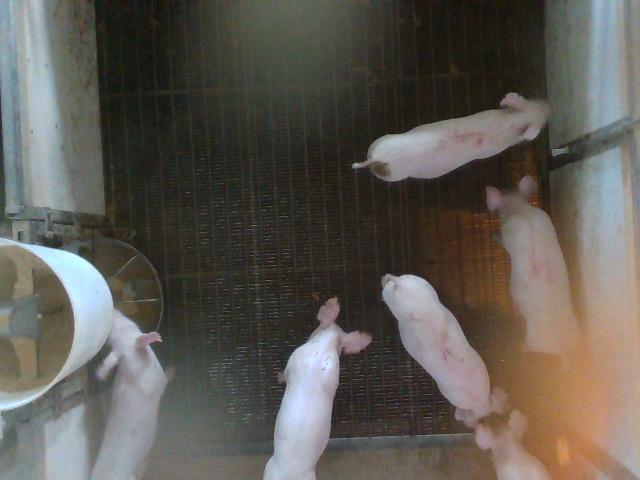pig-4: (488, 175, 580, 353)
pig-5: (352, 92, 550, 181)
